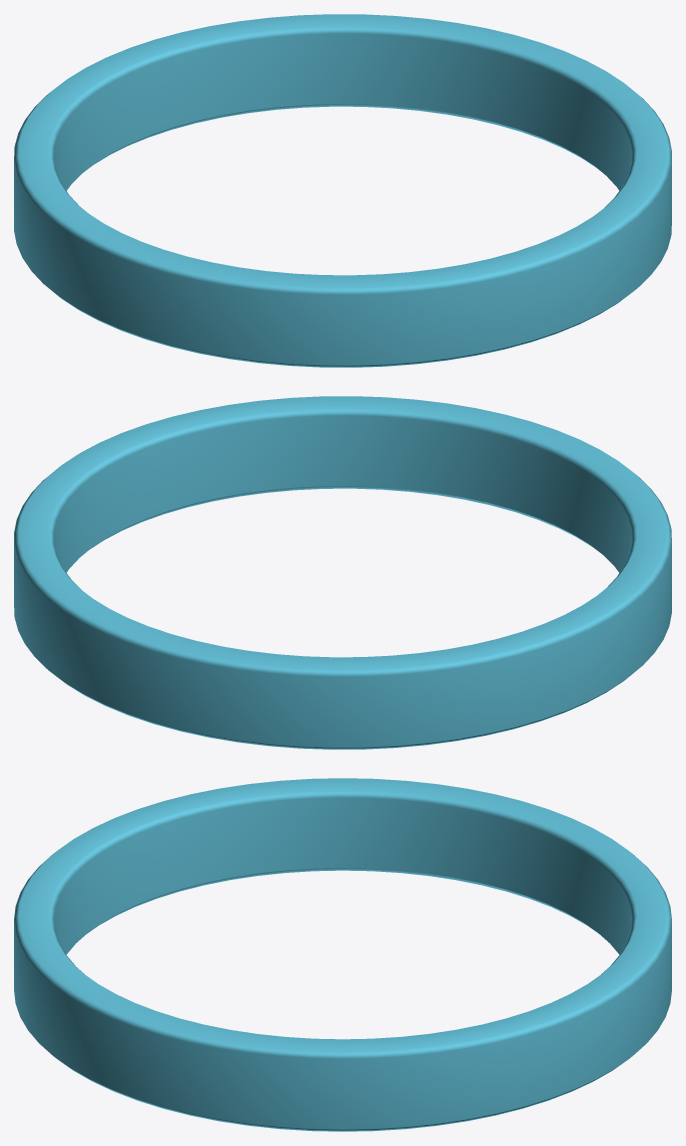
The picture shows the model from 3 angles, top to bottom: view 1: azimuth 30°, elevation 25°; view 2: azimuth 150°, elevation 25°; view 3: azimuth 270°, elevation 25°; orthographic projection.
Visible parts, largest first — view 1: seal_body; view 2: seal_body; view 3: seal_body.
Boxes of the visible parts, <box> form: seal_body: <box>14,14,671,367</box>; seal_body: <box>14,396,671,749</box>; seal_body: <box>14,778,671,1131</box>.
Bounding box in the file's own units: 0.041 × 0.0055 × 0.041.
